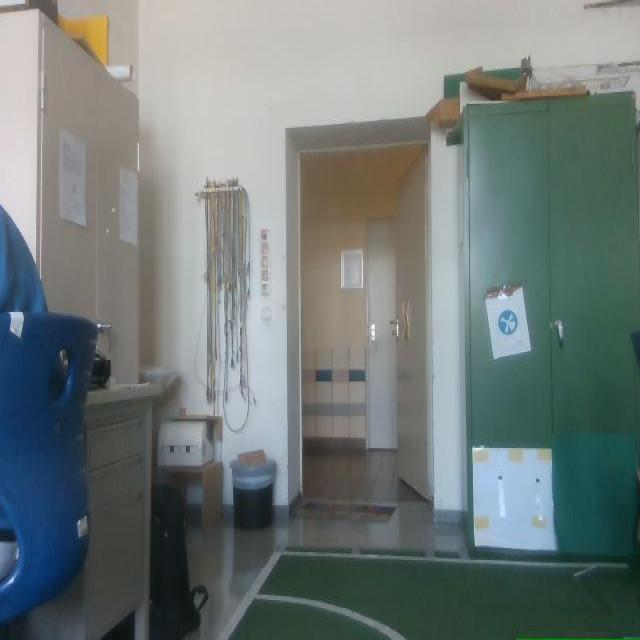objects: (460, 91, 639, 561), (0, 207, 96, 623), (0, 314, 96, 622), (553, 432, 639, 559), (150, 484, 207, 639), (150, 486, 207, 639), (0, 206, 47, 313), (0, 0, 58, 23), (0, 528, 17, 581), (91, 350, 110, 389), (630, 331, 639, 363), (0, 626, 10, 639)
